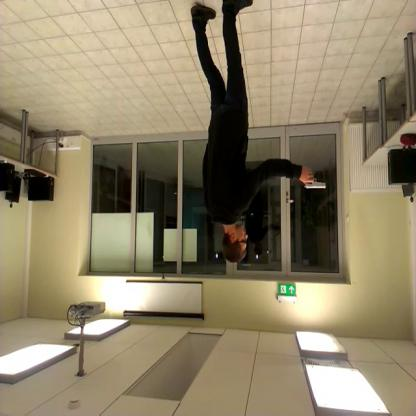Pistol: (299, 158, 333, 196)
